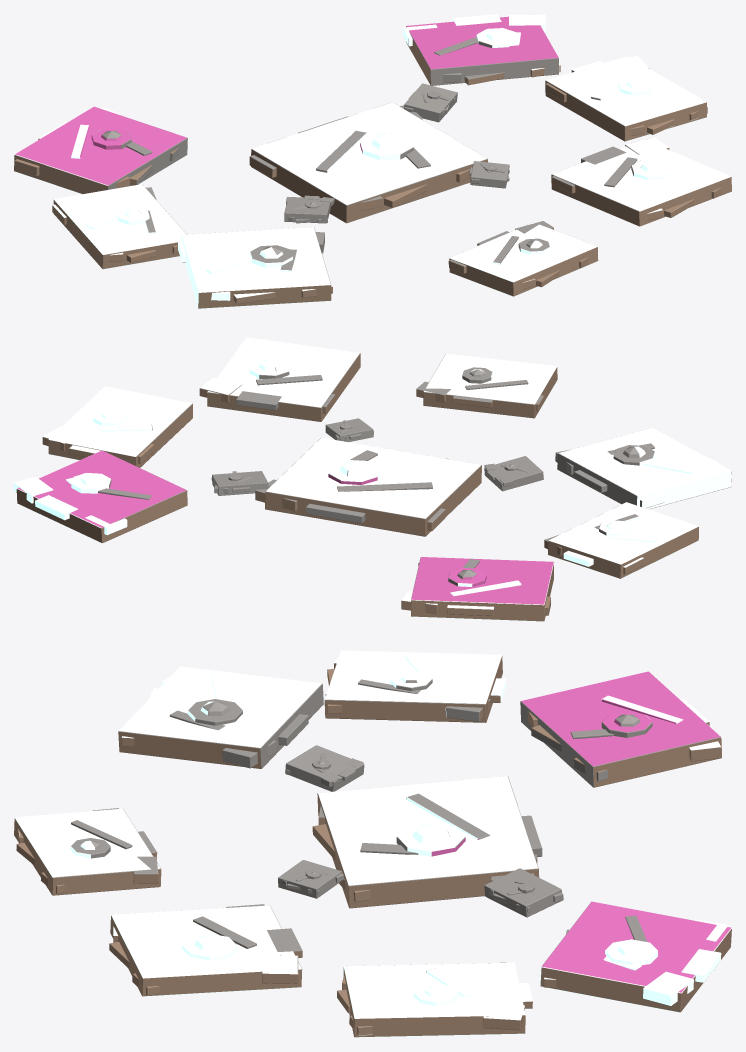
Rendered from Arena_AstroFloor.fbx.
3 renders of one model, top to bottom at view 1: azimuth 30°, elevation 25°; view 2: azimuth 150°, elevation 25°; view 3: azimuth 270°, elevation 25°, orthographic. The views are drawn at different scales.
Parts seen in each view (by area): view 1: Arena_AstroFloor; view 2: Arena_AstroFloor; view 3: Arena_AstroFloor.
Part boxes in pixels (x1=…): Arena_AstroFloor: x1=14, y1=14, x2=731, y2=308; Arena_AstroFloor: x1=14, y1=337, x2=731, y2=621; Arena_AstroFloor: x1=14, y1=650, x2=731, y2=1037.
Bounding box in the file's own units: 29.5 × 1.68 × 24.22.
